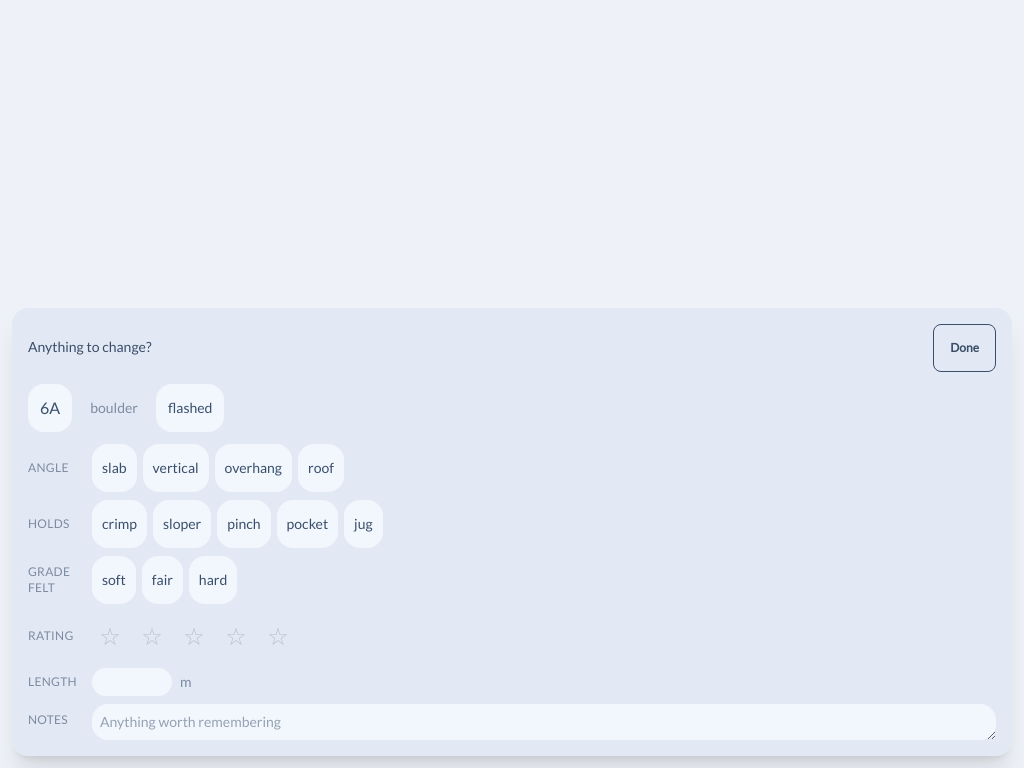
Test: correcting what was recorded › opens the grade grid on the tick’s own notation, at its own grade
The image size is (1024, 768).
Click the button named "Grade, 6A": (50, 408) x1=28 y1=384 x2=72 y2=432
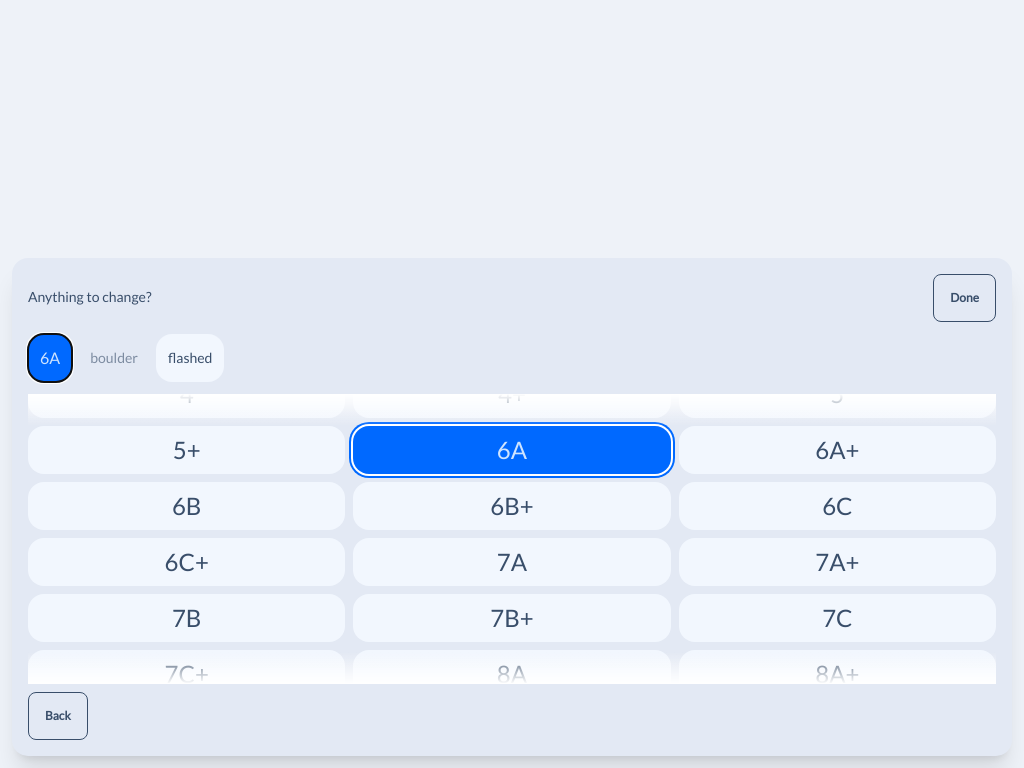
Result: the button named "Grade 6A" is shown at x1=353 y1=426 x2=671 y2=474
